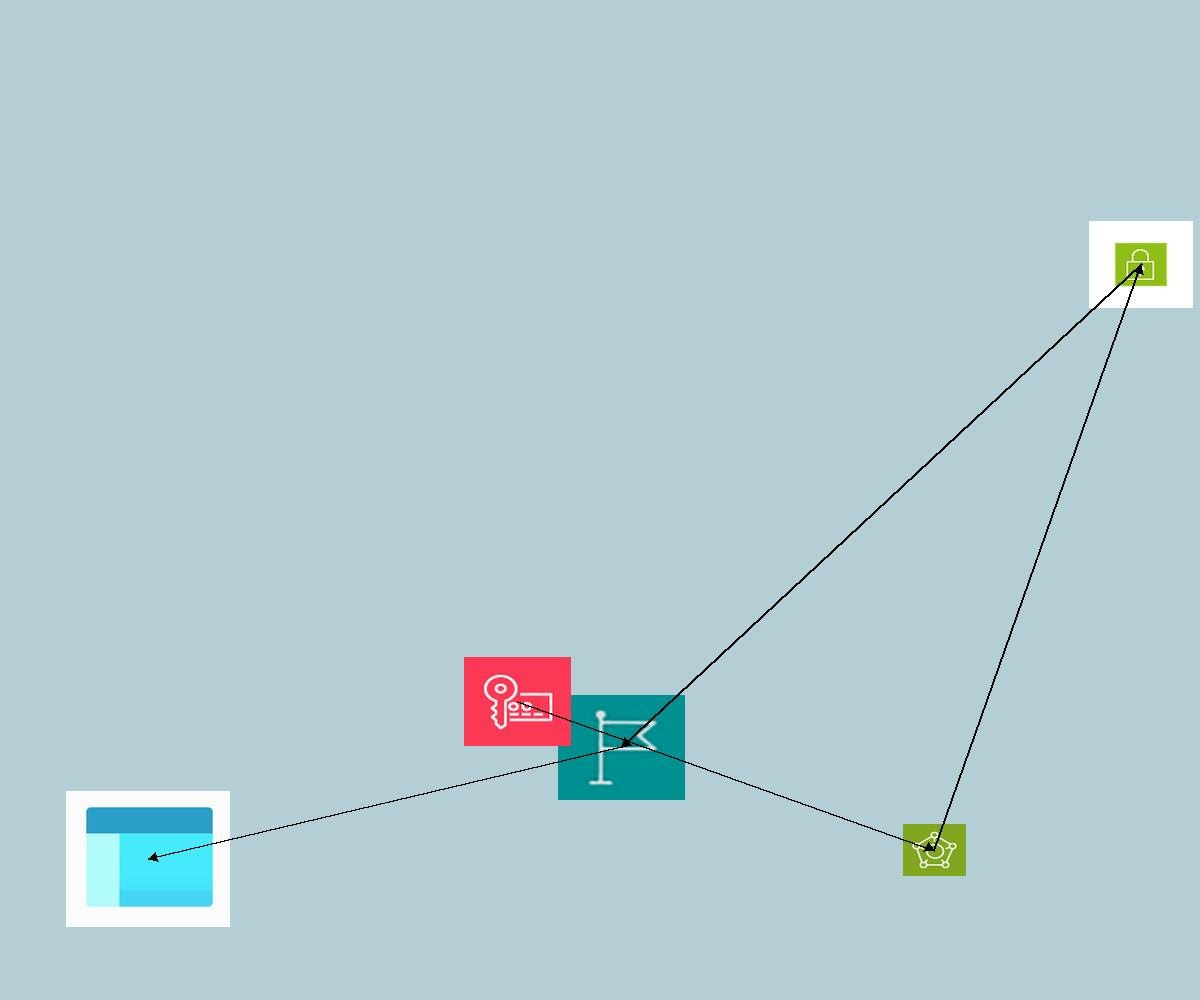AWS-Backup: (903, 824, 966, 876)
AWS-Key-Management-Service: (464, 657, 571, 746)
AWS-Public-subnet: (1089, 221, 1193, 308)
AWS-Region: (558, 695, 685, 800)
Azure_management-portal: (66, 791, 230, 927)
